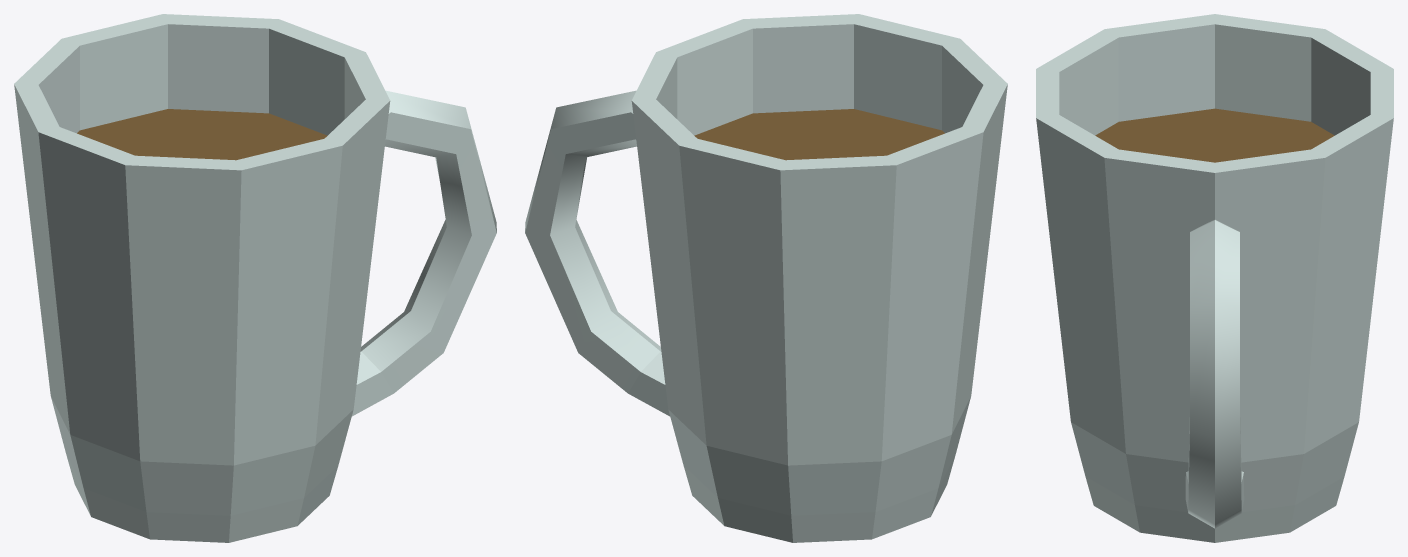
The model's file is CoffeeCup.fbx.
3 views of the same model, side by side, from view 1: azimuth 30°, elevation 25°; view 2: azimuth 150°, elevation 25°; view 3: azimuth 270°, elevation 25° (orthographic).
Visible parts, largest first — view 1: Mug1, handle1, theJoe1; view 2: Mug1, handle1, theJoe1; view 3: Mug1, handle1, theJoe1.
Boxes of the visible parts, bbox=[...] form: Mug1: bbox=[14, 14, 390, 542]; handle1: bbox=[352, 90, 496, 416]; theJoe1: bbox=[77, 109, 327, 160]; Mug1: bbox=[631, 14, 1007, 542]; handle1: bbox=[525, 90, 669, 416]; theJoe1: bbox=[694, 109, 944, 160]; Mug1: bbox=[1036, 14, 1393, 542]; handle1: bbox=[1185, 220, 1244, 528]; theJoe1: bbox=[1095, 108, 1334, 162].
Bounding box in the file's own units: 0.9835 × 0.8157 × 0.6686.
